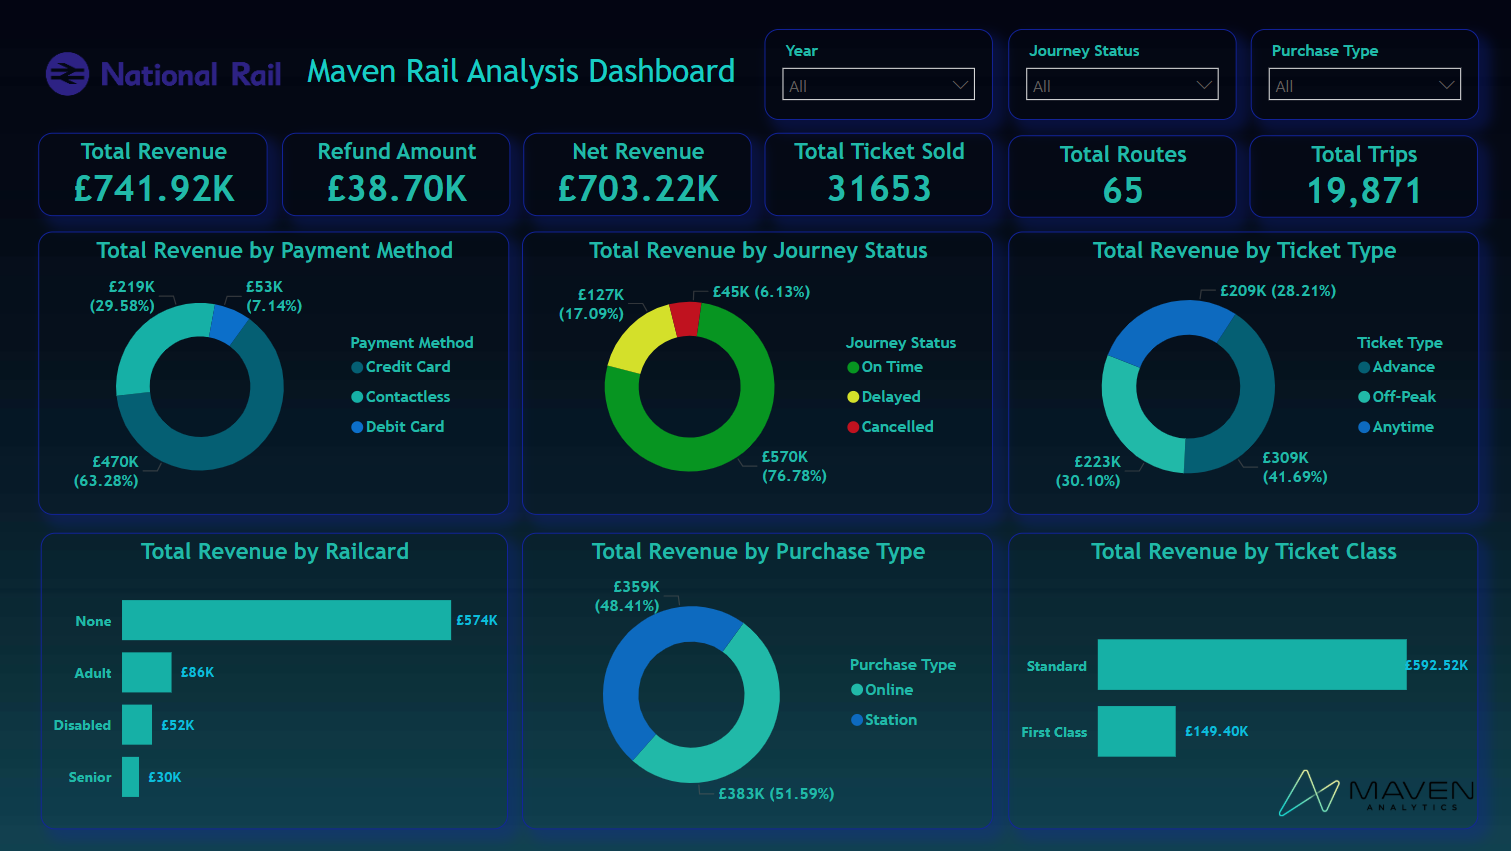

The page's visual inventory and layout, read from the dashboard file:
{"tool":"powerbi","page":{"name":"Overview","canvas":[1280,720],"ordinal":0},"visuals":[{"type":"card","title":"Total Revenue","fields":{"Values":["railway.Total Revenue"]},"box":[35.2,113.3,193.9,70.5],"z":0},{"type":"card","title":"Refund Amount","fields":{"Values":["railway.Refund Amount"]},"box":[240.4,113.3,192.6,70.5],"z":1000},{"type":"card","title":"Net Revenue","fields":{"Values":["railway.Net Revenue"]},"box":[444.4,113.3,192.6,70.5],"z":2000},{"type":"textbox","box":[250.5,40.3,385.2,46.6],"z":3000},{"type":"image","box":[31.5,40.3,219,46.6],"z":4000},{"type":"card","title":"Total Ticket Sold","fields":{"Values":["railway.Total Tickets Sold"]},"box":[648.3,113.3,192.6,70.5],"z":5000},{"type":"card","title":"Total Routes","fields":{"Values":["CountNonNull(Total Routes.No of routes)"]},"box":[853.5,114.6,192.6,69.2],"z":6000},{"type":"card","title":"Total Trips","fields":{"Values":["CountNonNull(Total Trips.Trips)"]},"box":[1057.4,114.6,192.6,69.2],"z":7000},{"type":"image","box":[1077.6,639.5,173.7,61.7],"z":8000},{"type":"slicer","fields":{"Values":["railway.Date of Purchase Hierarchy.Year"]},"box":[648.3,25.2,192.6,76.8],"z":9000},{"type":"slicer","fields":{"Values":["railway.Journey Status"]},"box":[853.5,25.2,192.6,76.8],"z":10000},{"type":"slicer","fields":{"Values":["railway.Purchase Type"]},"box":[1058.7,25.2,192.6,76.8],"z":11000},{"type":"donutChart","fields":{"Category":["railway.Journey Status"],"Y":["railway.Total Revenue"]},"box":[443.1,196.4,397.8,239.2],"z":12000},{"type":"donutChart","fields":{"Category":["railway.Payment Method"],"Y":["railway.Total Revenue"]},"box":[35.2,196.4,397.8,239.2],"z":13000},{"type":"donutChart","fields":{"Y":["railway.Total Revenue"],"Category":["railway.Ticket Type"]},"box":[853.5,196.4,397.8,239.2],"z":14000},{"type":"barChart","fields":{"Category":["railway.Ticket Class"],"Y":["railway.Total Revenue"]},"box":[853.5,450.7,396.5,250.5],"z":15000},{"type":"barChart","fields":{"Category":["railway.Railcard"],"Y":["railway.Total Revenue"]},"box":[36.5,450.7,394,250.5],"z":16000},{"type":"donutChart","fields":{"Y":["railway.Total Revenue"],"Category":["railway.Purchase Type"]},"box":[443.1,450.7,397.8,250.5],"z":17000}]}

Visuals, with their boxes in screenshot pixels (x1, y1, x2, y2), scaled from the page's 1280x720 canvas onto the 1511x851 screenshot:
"Total Revenue" card: x1=42 y1=134 x2=270 y2=217
"Refund Amount" card: x1=284 y1=134 x2=511 y2=217
"Net Revenue" card: x1=525 y1=134 x2=752 y2=217
textbox: x1=296 y1=48 x2=750 y2=103
image: x1=37 y1=48 x2=296 y2=103
"Total Ticket Sold" card: x1=765 y1=134 x2=993 y2=217
"Total Routes" card: x1=1008 y1=135 x2=1235 y2=217
"Total Trips" card: x1=1248 y1=135 x2=1476 y2=217
image: x1=1272 y1=756 x2=1477 y2=829
slicer - railway.Date of Purchase Hierarchy.Year: x1=765 y1=30 x2=993 y2=121
slicer - railway.Journey Status: x1=1008 y1=30 x2=1235 y2=121
slicer - railway.Purchase Type: x1=1250 y1=30 x2=1477 y2=121
donutChart - railway.Journey Status x railway.Total Revenue: x1=523 y1=232 x2=993 y2=515
donutChart - railway.Payment Method x railway.Total Revenue: x1=42 y1=232 x2=511 y2=515
donutChart - railway.Total Revenue x railway.Ticket Type: x1=1008 y1=232 x2=1477 y2=515
barChart - railway.Ticket Class x railway.Total Revenue: x1=1008 y1=533 x2=1476 y2=829
barChart - railway.Railcard x railway.Total Revenue: x1=43 y1=533 x2=508 y2=829
donutChart - railway.Total Revenue x railway.Purchase Type: x1=523 y1=533 x2=993 y2=829
